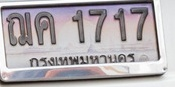Bangkok: (23, 53, 138, 70)
